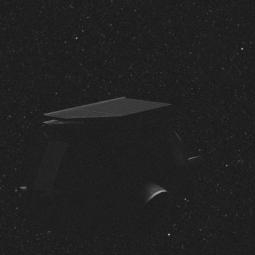cheops: (36, 96, 198, 224)
